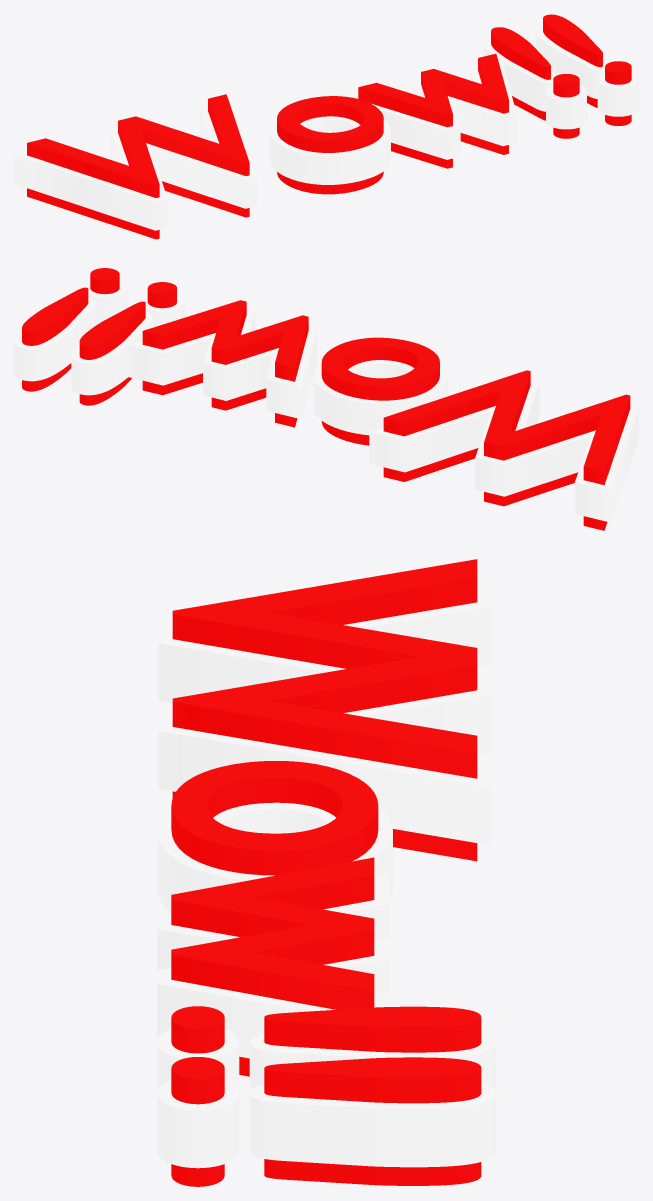
The model's file is textsimple.gltf.
3 views of the same model, one above another, from view 1: azimuth 30°, elevation 25°; view 2: azimuth 150°, elevation 25°; view 3: azimuth 270°, elevation 25° (orthographic). The views are drawn at different scales.
Parts seen in each view (by area): view 1: Text, Text.001; view 2: Text.001, Text; view 3: Text, Text.001.
Part boxes in pixels (x1,y1,x2,y2): Text: (27, 14, 631, 239); Text.001: (14, 25, 638, 230); Text.001: (14, 281, 638, 522); Text: (22, 268, 630, 530); Text: (171, 559, 481, 1186); Text.001: (157, 575, 495, 1168).
Bounding box in the file's own units: 2.86 × 0.268 × 0.7663.
